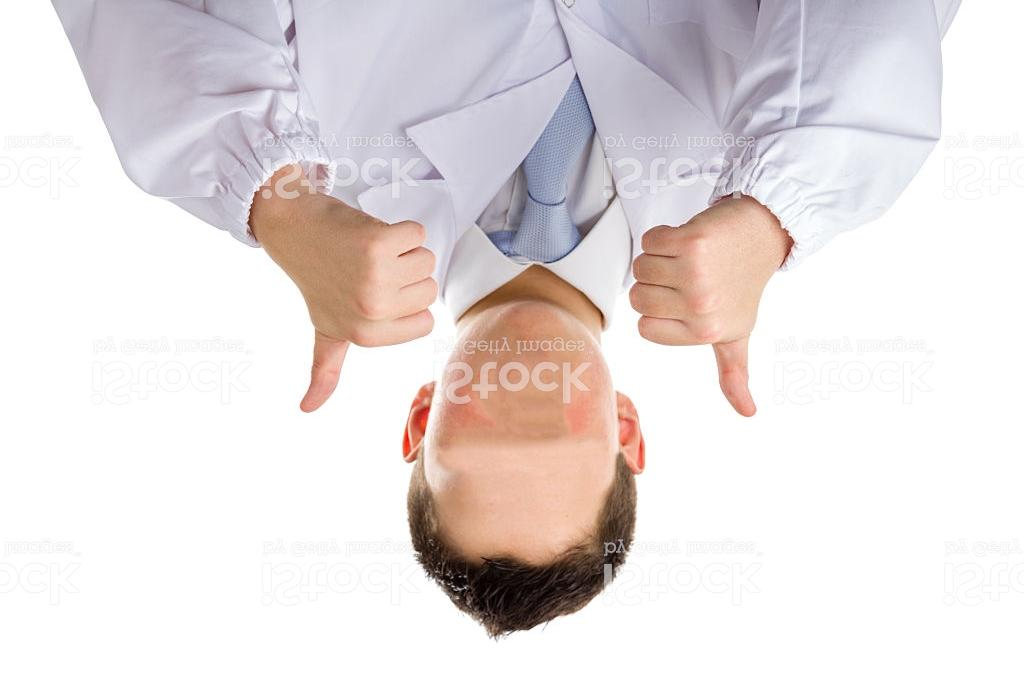thumbsdown: (298, 216, 438, 416), (628, 221, 757, 420)
